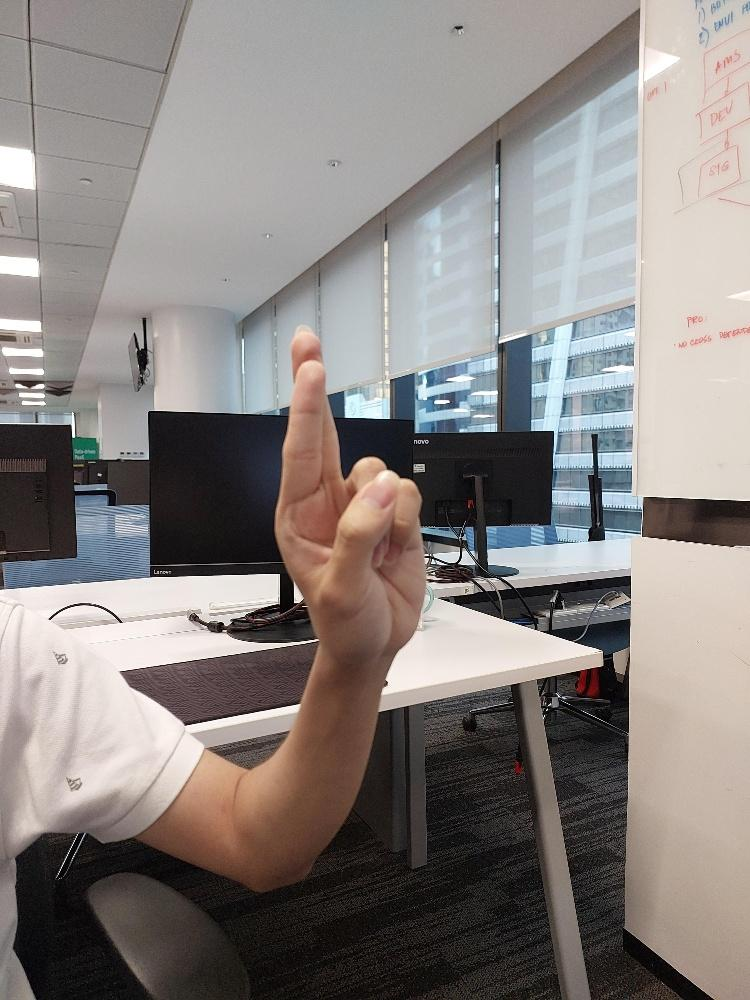r: (269, 319, 429, 664)
